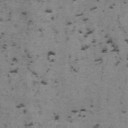oxide scale of temperature system: (0, 0, 128, 86), (53, 104, 94, 123), (14, 102, 34, 126), (68, 54, 78, 72), (92, 123, 100, 128), (10, 86, 14, 92), (122, 110, 126, 114)
